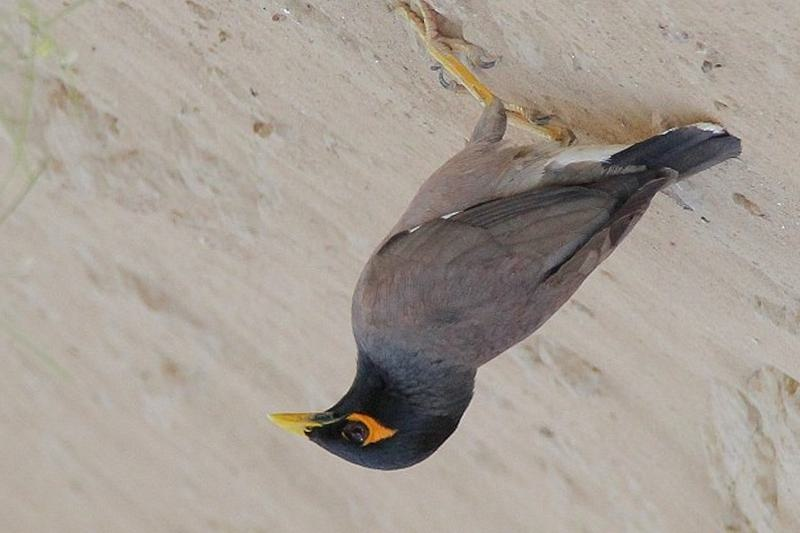myna: (265, 83, 681, 483)
